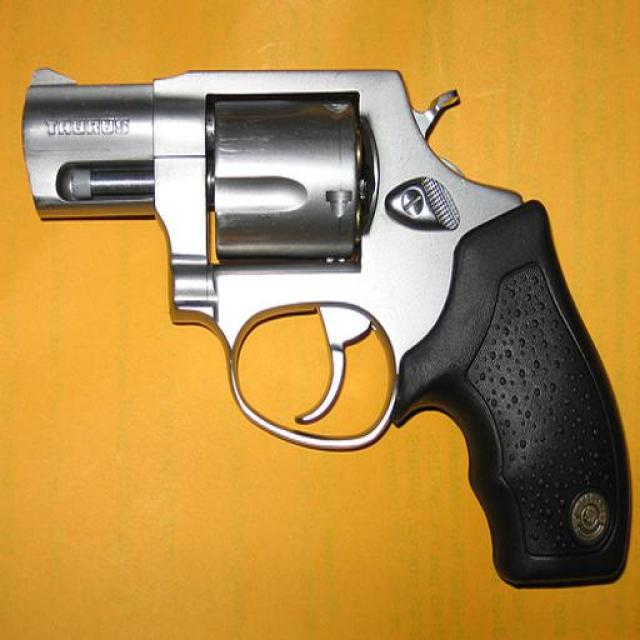pistol: (21, 64, 631, 586)
